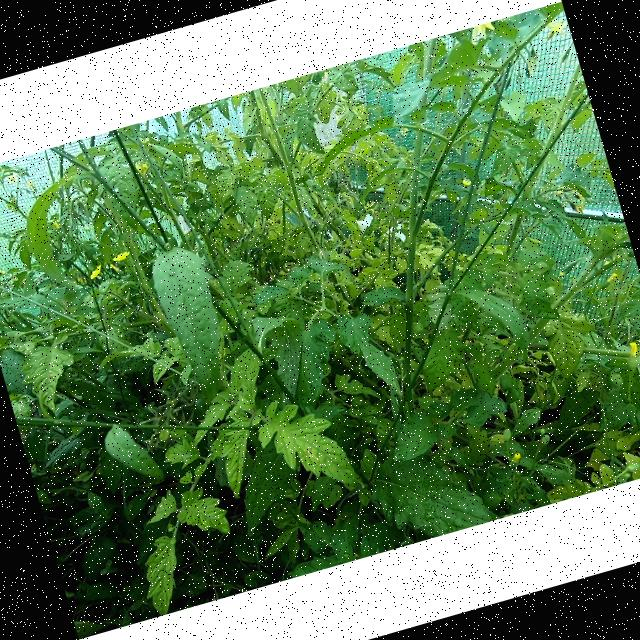Flowers: (471, 20, 498, 40), (544, 18, 566, 42), (134, 158, 152, 176), (110, 249, 132, 262), (87, 264, 103, 280), (459, 175, 472, 188), (6, 172, 20, 184), (0, 267, 5, 276)
